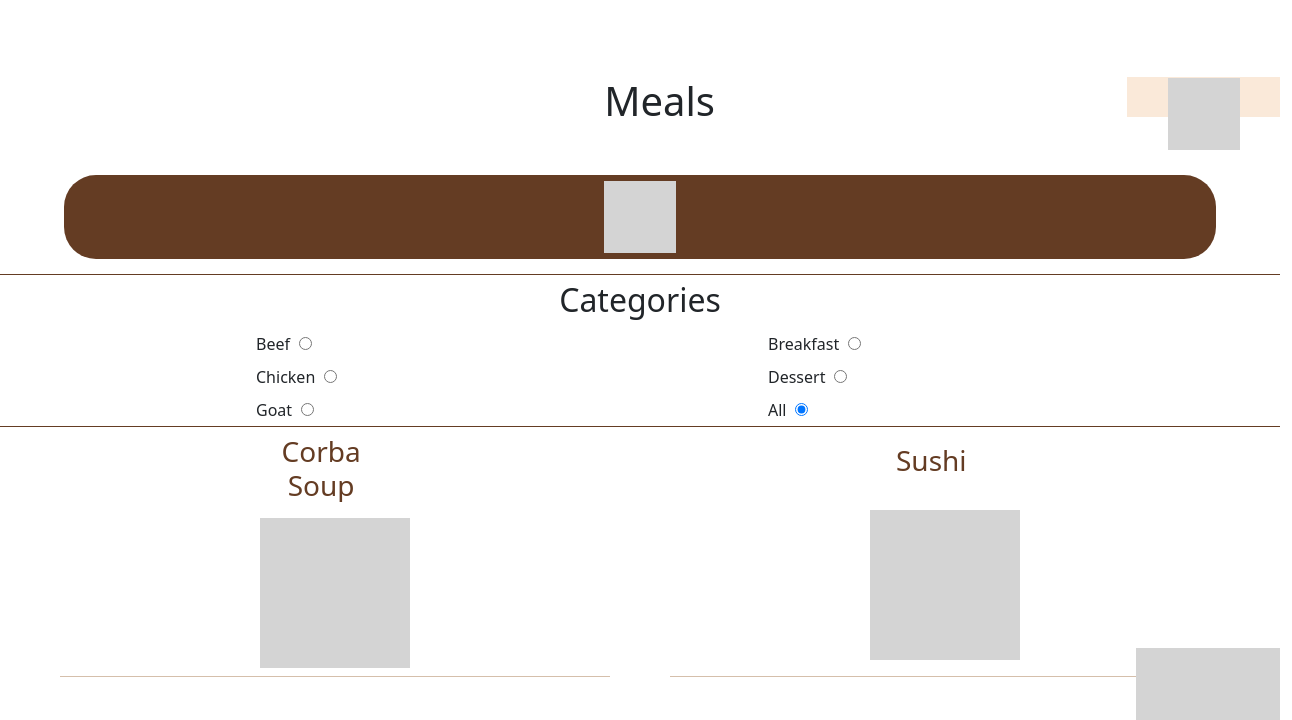
Test: Verifica se o ícone do perfil redireciona o usuário para a rota /profile e o header é modificado
Expected: the number of headings "Meals" is 1, [604, 73, 715, 128]
Click the button with test id "profile-top-btn" at {"x": 1204, "y": 97}, box [1127, 77, 1280, 117]
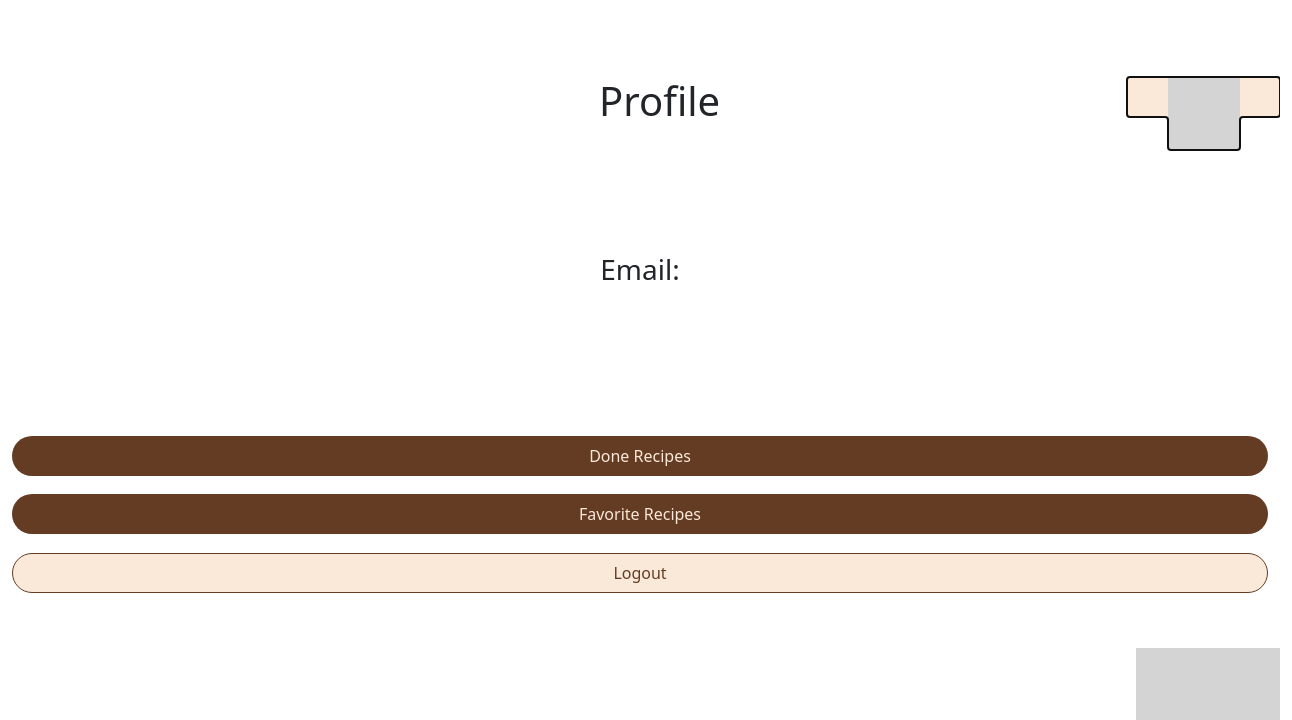
Expected: the heading "Profile" is shown, [599, 73, 720, 128]
Expected: the heading "Meals" is gone
